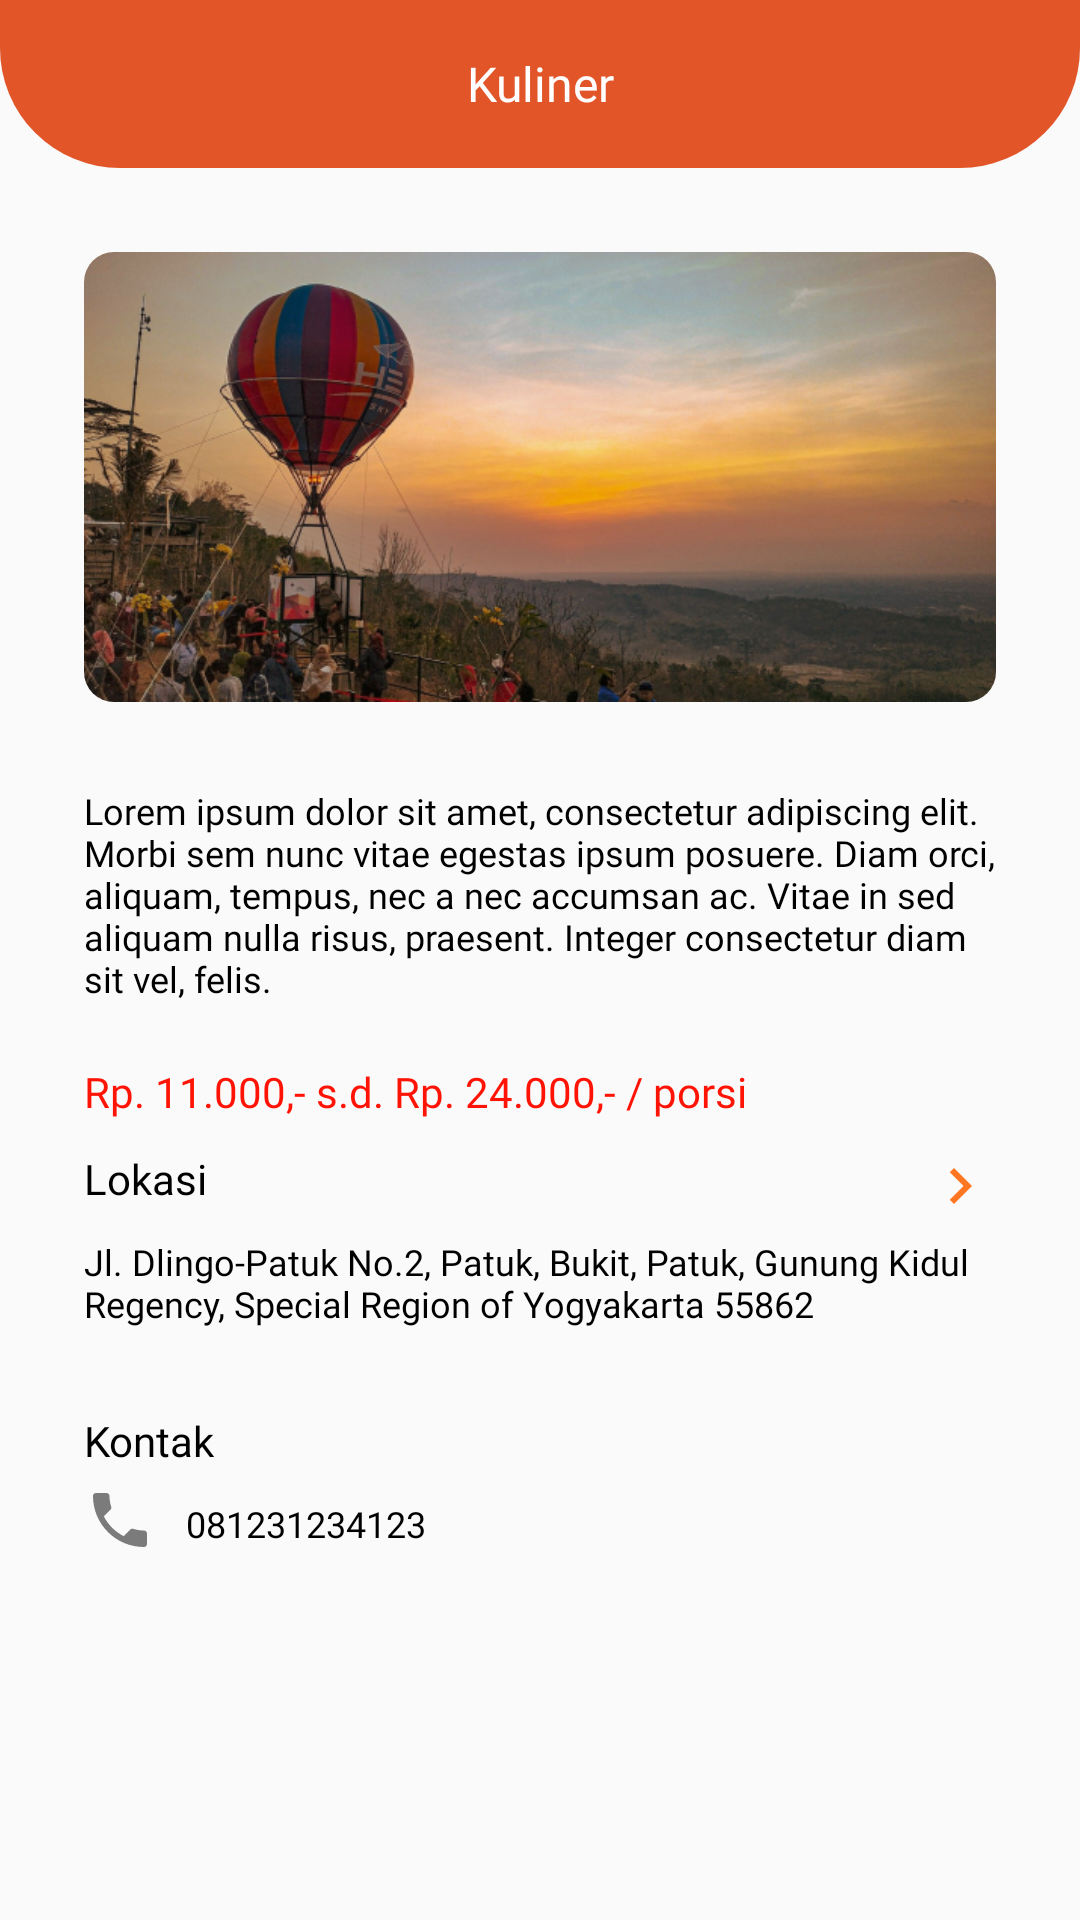

Where icons sit on this 1080×1920 app screen, as (x1, y1, x2, y2):
local phone: (93, 1493, 147, 1547)
navigate next: (950, 1168, 972, 1204)
